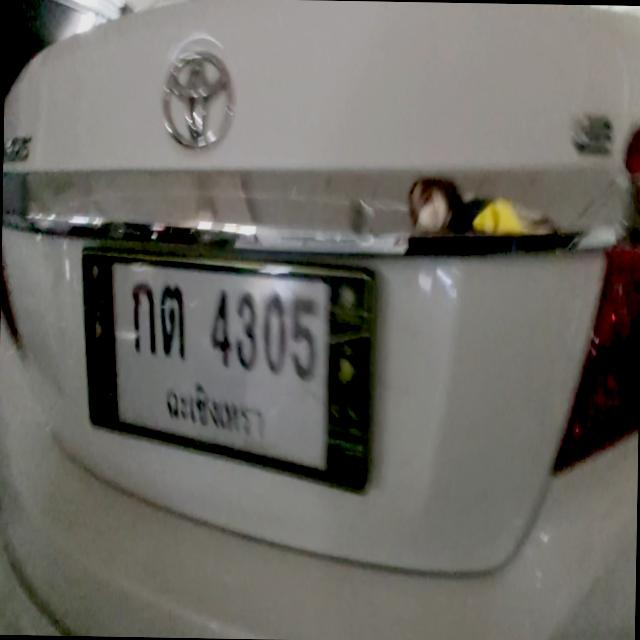license_plate: (110, 262, 331, 471)
